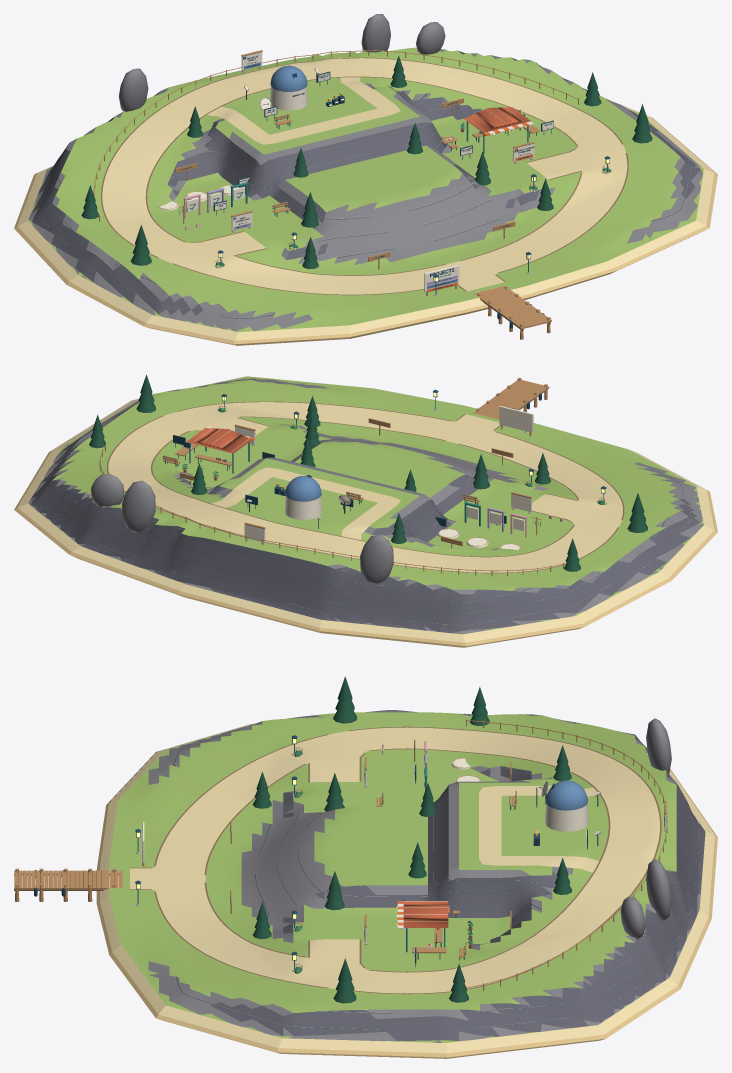
The model's file is projects.glb.
The picture shows the model from 3 angles, top to bottom: view 1: azimuth 30°, elevation 25°; view 2: azimuth 150°, elevation 25°; view 3: azimuth 270°, elevation 25°; orthographic projection. The views are drawn at different scales.
Parts seen in each view (by area): view 1: static_grass, static_sand, static_highlandsRock, static_highlandsCliff, static_sandEdge, static_wood, static_highlandsTrailEdge, static_highlandsStrataDark, occluder_catering_canopy_terracotta, occluder_research_dome_blue, occluder_research_observatory_ivory, static_highlandsStrataLight; view 2: static_grass, static_sand, static_highlandsCliff, static_highlandsRock, static_sandEdge, static_wood, static_highlandsTrailEdge, static_highlandsStrataDark, occluder_catering_canopy_terracotta, occluder_research_dome_blue, occluder_research_observatory_ivory, station_projects-directory_ivory (+4 smaller); view 3: static_grass, static_sand, static_highlandsCliff, static_highlandsRock, static_sandEdge, static_wood, static_highlandsTrailEdge, static_highlandsStrataDark, occluder_catering_canopy_terracotta, occluder_research_dome_blue, occluder_research_observatory_ivory, static_highlandsStrataLight (+2 smaller).
Boxes of the visible parts, x1,y1,x2,y2 form: static_grass: [28, 47, 703, 331]; static_sand: [17, 58, 714, 340]; static_highlandsRock: [28, 14, 703, 331]; static_highlandsCliff: [31, 51, 700, 315]; static_sandEdge: [14, 116, 717, 345]; static_wood: [93, 49, 578, 339]; static_highlandsTrailEdge: [101, 57, 628, 295]; static_highlandsStrataDark: [37, 51, 692, 319]; occluder_catering_canopy_terracotta: [464, 107, 531, 132]; occluder_research_dome_blue: [270, 65, 307, 91]; occluder_research_observatory_ivory: [270, 86, 307, 110]; static_highlandsStrataLight: [38, 49, 691, 318]; static_grass: [28, 376, 703, 634]; static_sand: [17, 376, 714, 642]; static_highlandsCliff: [30, 402, 700, 633]; static_highlandsRock: [28, 378, 703, 633]; static_sandEdge: [14, 400, 717, 647]; static_wood: [99, 377, 566, 576]; static_highlandsTrailEdge: [107, 401, 624, 573]; static_highlandsStrataDark: [43, 379, 692, 626]; occluder_catering_canopy_terracotta: [186, 428, 252, 453]; occluder_research_dome_blue: [285, 476, 321, 501]; occluder_research_observatory_ivory: [285, 496, 321, 519]; station_projects-directory_ivory: [499, 406, 533, 432]; static_grass: [109, 712, 705, 1042]; static_sand: [100, 723, 714, 1053]; static_highlandsCliff: [211, 725, 705, 1040]; static_highlandsRock: [148, 710, 700, 1042]; static_sandEdge: [96, 751, 717, 1058]; static_wood: [14, 719, 667, 992]; static_highlandsTrailEdge: [130, 726, 661, 994]; static_highlandsStrataDark: [173, 714, 699, 1030]; occluder_catering_canopy_terracotta: [403, 901, 448, 927]; occluder_research_dome_blue: [545, 780, 587, 810]; occluder_research_observatory_ivory: [545, 803, 588, 831]; static_highlandsStrataLight: [175, 713, 699, 1029].
Bounding box in the file's own units: 78 × 11.49 × 68.
